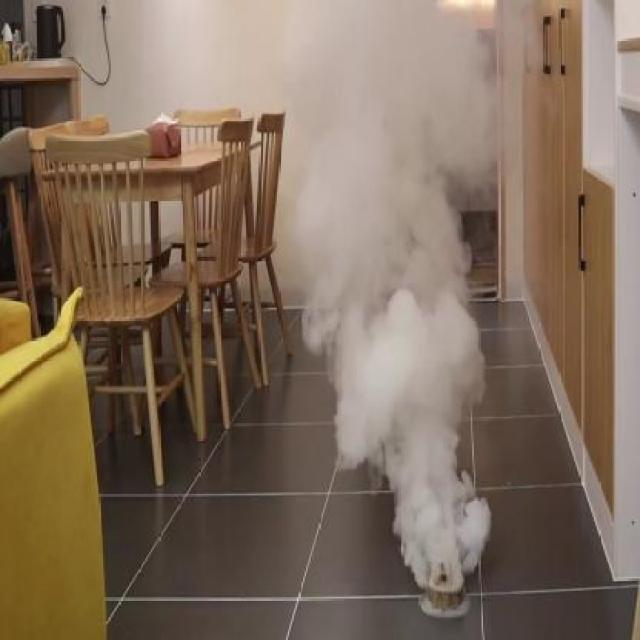fire: (330, 235, 418, 614)
smoke: (192, 45, 296, 322)
